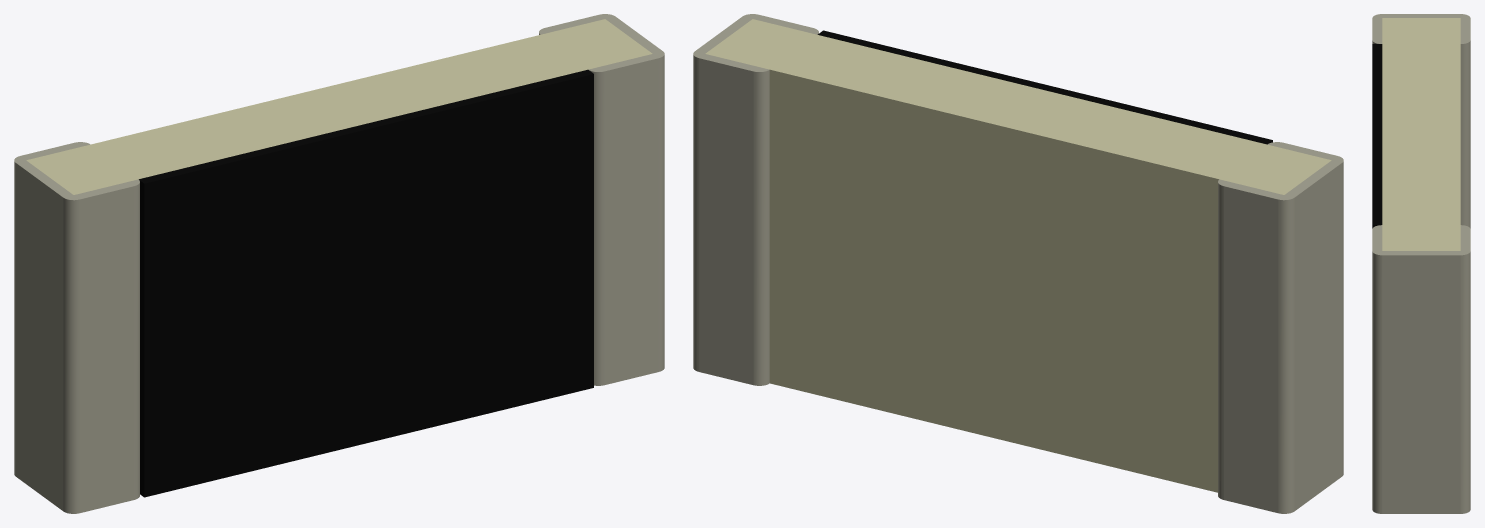
The model's file is r_1206_3216metric.glb.
The picture shows the model from 3 angles, left to right: view 1: azimuth 30°, elevation 25°; view 2: azimuth 150°, elevation 25°; view 3: azimuth 270°, elevation 25°; orthographic projection. The views are drawn at different scales.
Parts seen in each view (by area): view 1: R_1206_3216Metric; view 2: R_1206_3216Metric; view 3: R_1206_3216Metric.
Part boxes in pixels (x1,y1,x2,y2): R_1206_3216Metric: (14, 14, 664, 513); R_1206_3216Metric: (693, 14, 1343, 513); R_1206_3216Metric: (1372, 14, 1470, 513).
Bounding box in the file's own units: 3.2 × 1.6 × 0.55.
